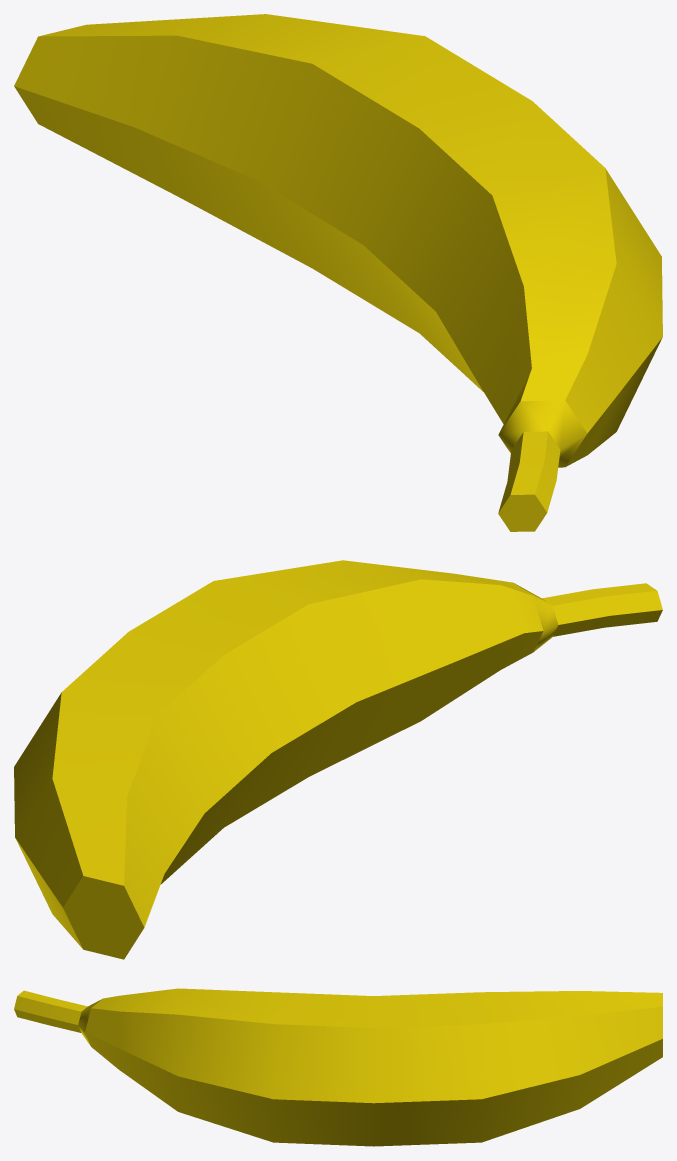
The model's file is banana.fbx.
The picture shows the model from 3 angles, top to bottom: view 1: azimuth 30°, elevation 25°; view 2: azimuth 150°, elevation 25°; view 3: azimuth 270°, elevation 25°; orthographic projection. The views are drawn at different scales.
Visible parts, largest first — view 1: pCylinder1; view 2: pCylinder1; view 3: pCylinder1.
Part boxes in pixels (x1,y1,x2,y2): pCylinder1: (14, 14, 662, 531); pCylinder1: (14, 560, 662, 959); pCylinder1: (14, 988, 662, 1146).
Size of the model in its own units: 140 by 69.98 by 347.
